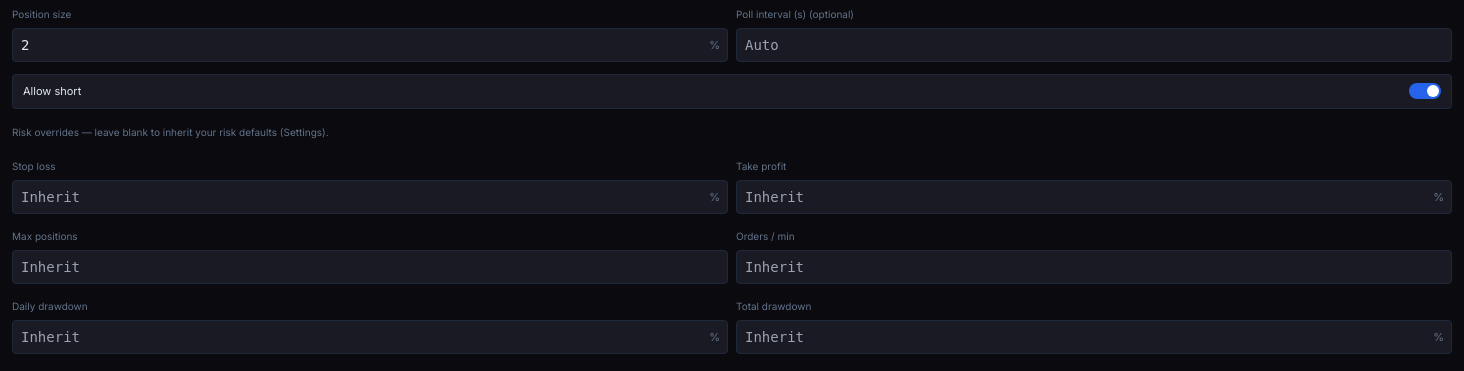
Scenario: ExecutionConfigForm › resyncs a blanked required field to the model value on blur
Clear the field showing "2" at (370, 45), box [12,28,728,62]
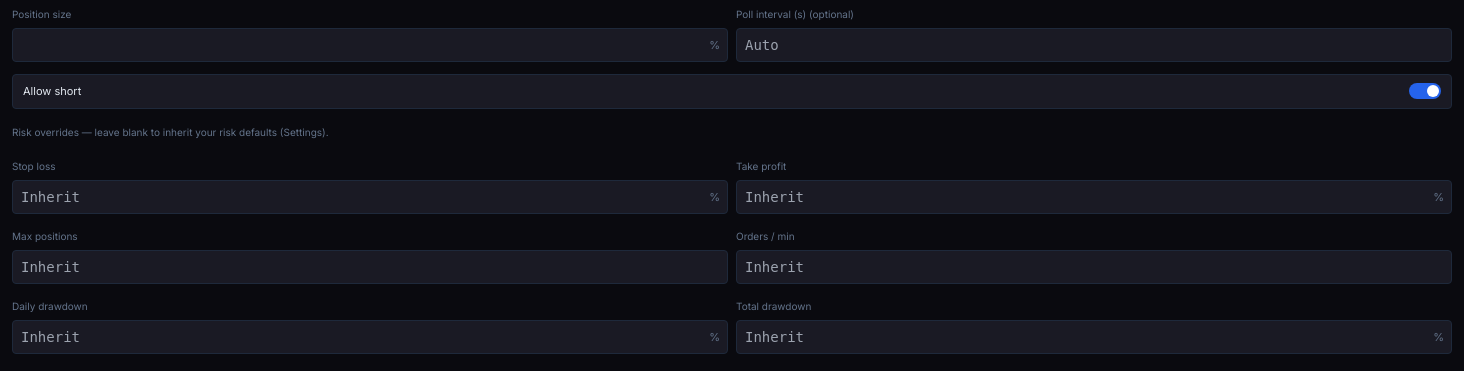
Leave the field showing "2", box [12,28,728,62]
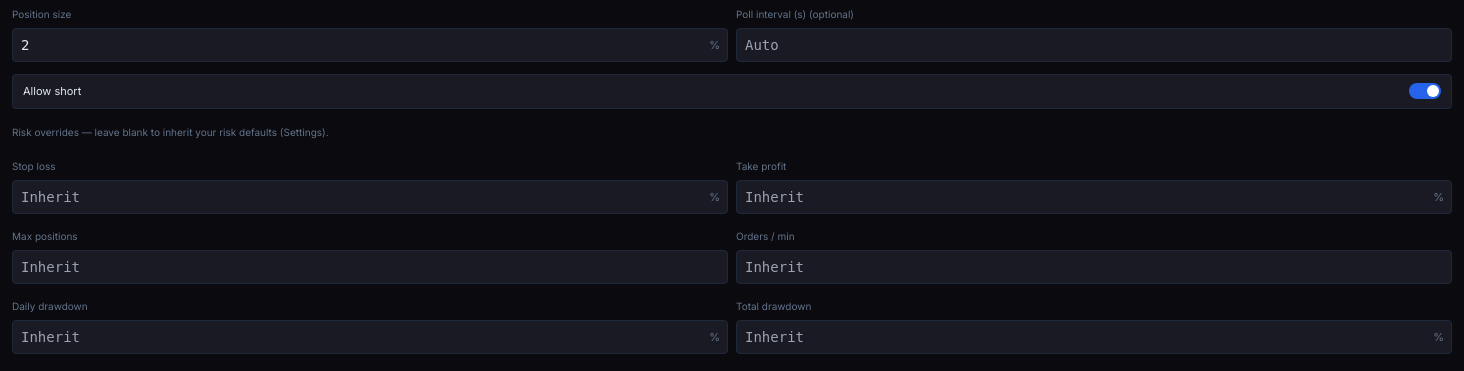
Check: the field showing "2" holds "2", box [12,28,728,62]
